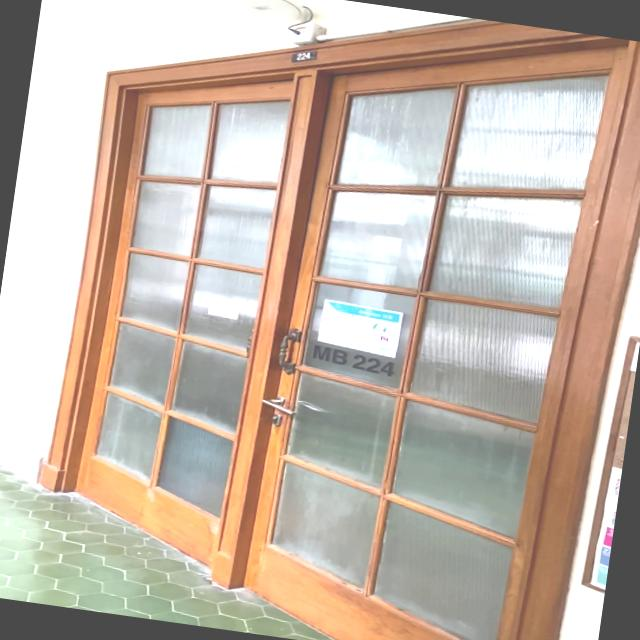room224: (288, 46, 319, 66)
room224Window: (308, 343, 398, 379)
